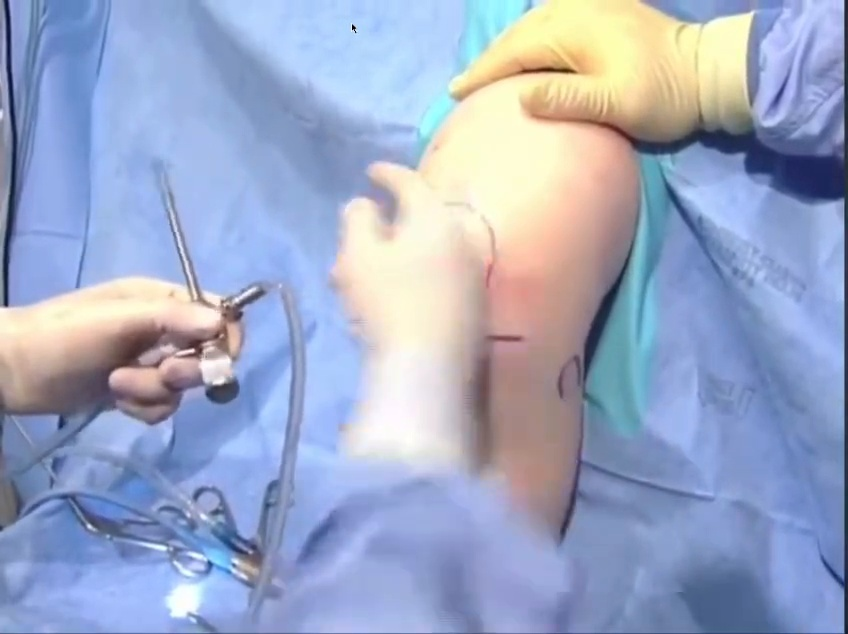arthroscope: (23, 127, 338, 500), (628, 0, 848, 177)
probe: (736, 164, 848, 594), (643, 133, 804, 339), (310, 183, 402, 456)
